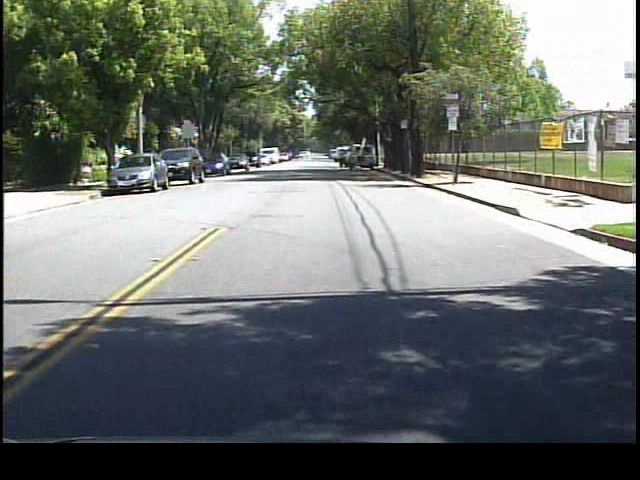person: (334, 146, 349, 171)
